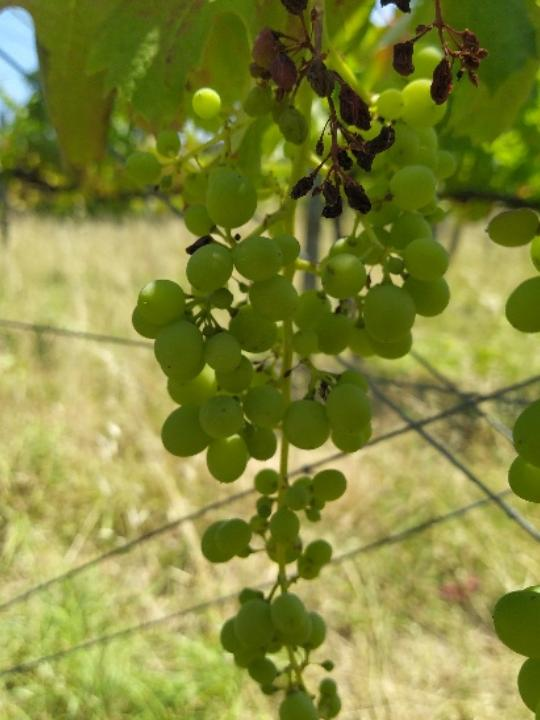grape: (123, 48, 462, 720), (245, 0, 492, 226)
